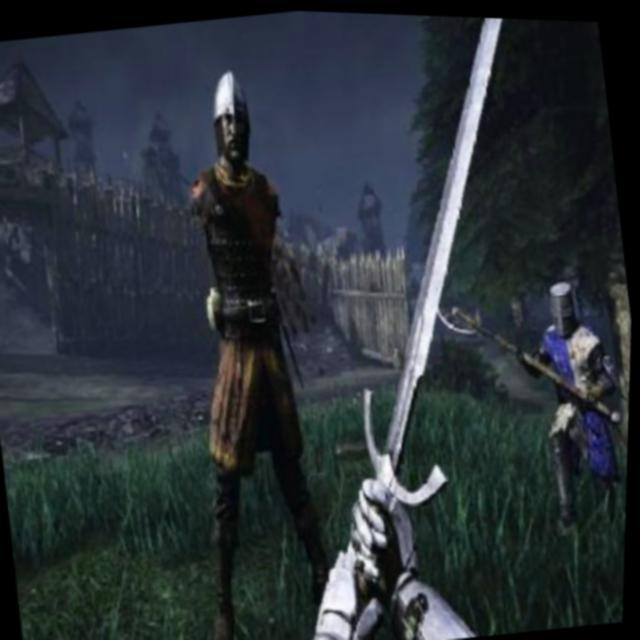weapon: (175, 6, 601, 640), (131, 55, 362, 640)
